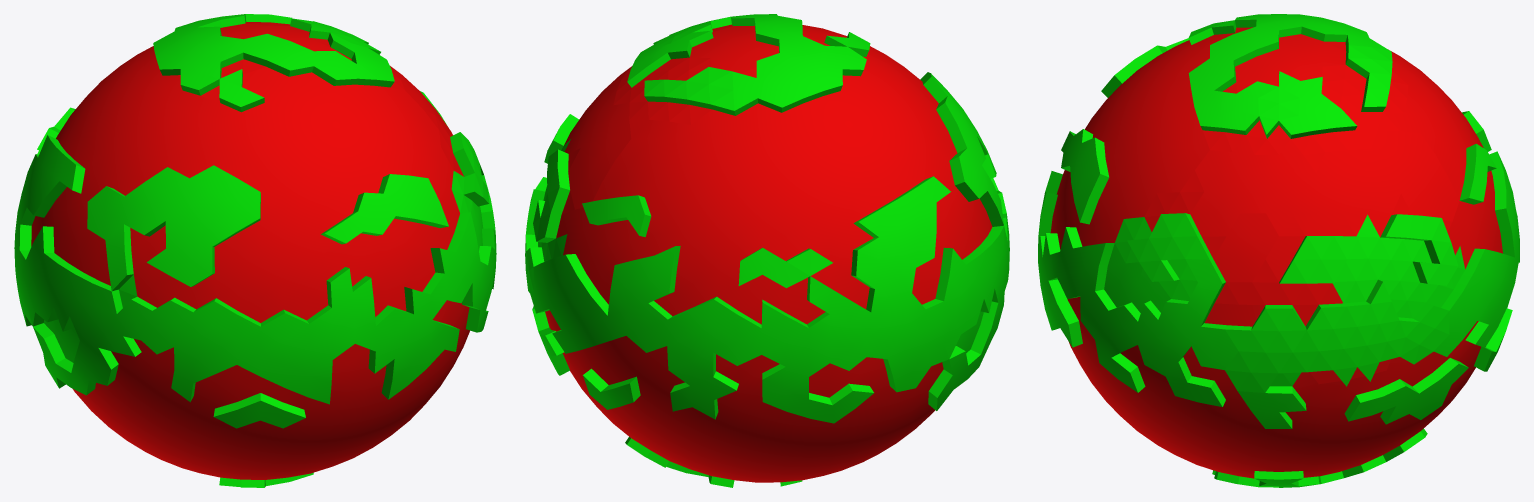
The model's file is Planet_A2.fbx.
3 views of the same model, side by side, from view 1: azimuth 30°, elevation 25°; view 2: azimuth 150°, elevation 25°; view 3: azimuth 270°, elevation 25° (orthographic).
Parts seen in each view (by area): view 1: Planet_A; view 2: Planet_A; view 3: Planet_A.
Part boxes in pixels (x1,y1,x2,y2): Planet_A: [14, 14, 496, 487]; Planet_A: [525, 14, 1009, 487]; Planet_A: [1038, 14, 1519, 487].
Size of the model in its own units: 122 by 120 by 122.
